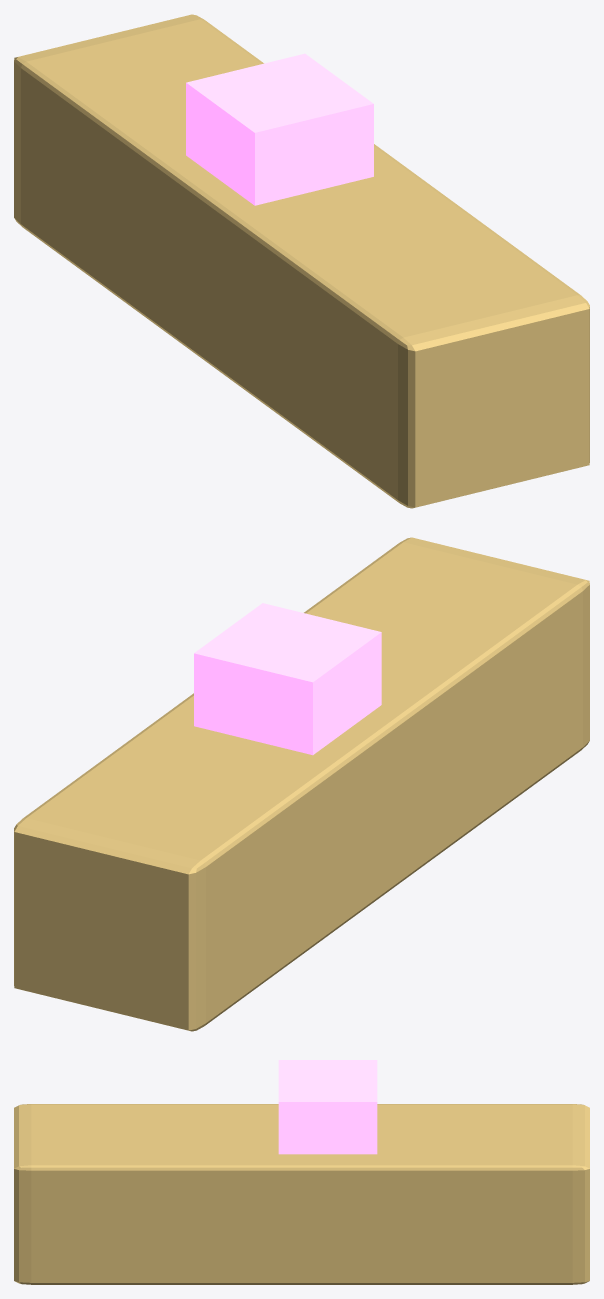
The model's file is SM_Keeper_OverlordEcho_Frag1.fbx.
The picture shows the model from 3 angles, top to bottom: view 1: azimuth 30°, elevation 25°; view 2: azimuth 150°, elevation 25°; view 3: azimuth 270°, elevation 25°; orthographic projection. The views are drawn at different scales.
Visible parts, largest first — view 1: SM_Keeper_OverlordEcho_Frag1; view 2: SM_Keeper_OverlordEcho_Frag1; view 3: SM_Keeper_OverlordEcho_Frag1.
Part boxes in pixels (x1=…): SM_Keeper_OverlordEcho_Frag1: x1=14, y1=14, x2=589, y2=508; SM_Keeper_OverlordEcho_Frag1: x1=14, y1=537, x2=589, y2=1031; SM_Keeper_OverlordEcho_Frag1: x1=14, y1=1060, x2=589, y2=1284.
Size of the model in its own units: 1.56 by 1.92 by 5.83.
